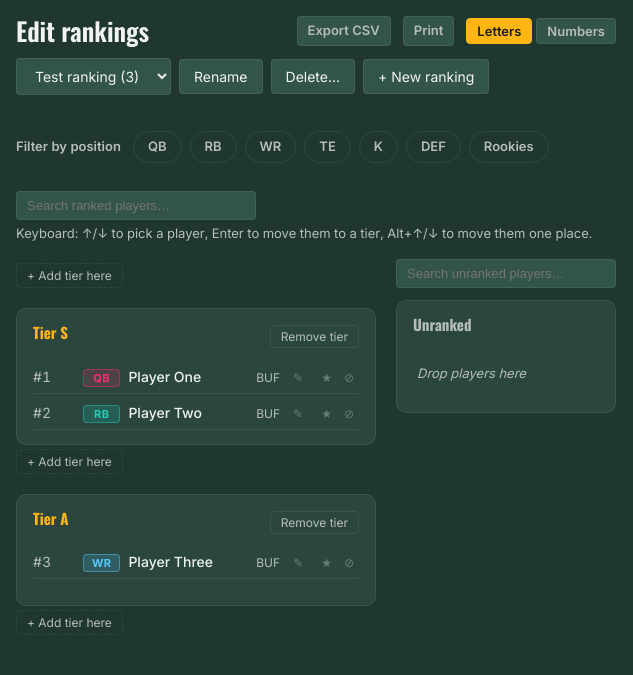
Test case: RankingEditorPage › asks to merge a tier's players into the next tier
Check: the text "Player Three" is shown, box top-left (128, 551), bottom-right (213, 572)
Click the button "Remove tier" in the row of "Tier S": {"x": 314, "y": 336} top-left (270, 325), bottom-right (359, 348)
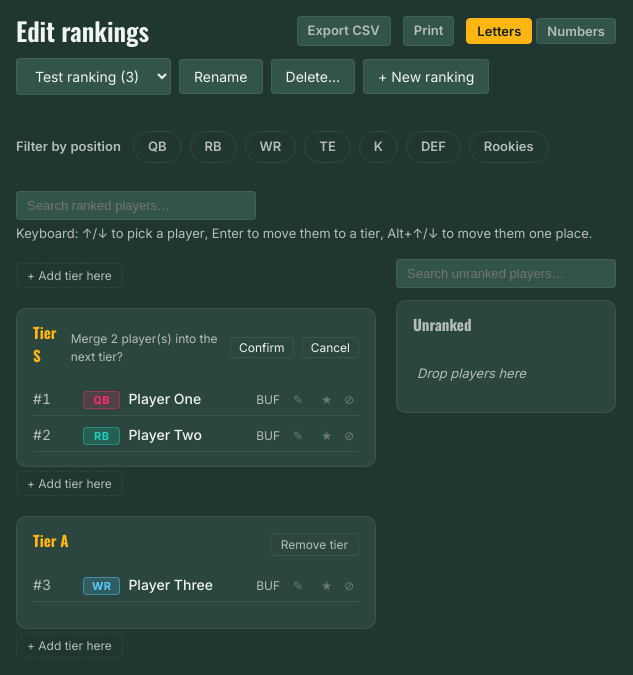
Check: the text "Merge 2 player(s) into the next tier?" is shown, box top-left (71, 330), bottom-right (222, 366)
